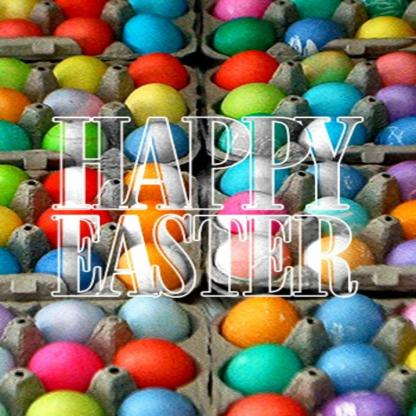Egg: (0, 0, 415, 415), (223, 345, 304, 396)
